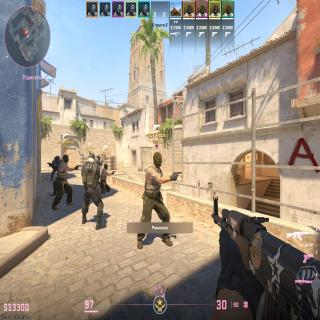CT-Body: (81, 153, 101, 226), (51, 156, 60, 196), (50, 157, 55, 181), (95, 154, 102, 166)
CT-Head: (89, 152, 95, 162), (55, 156, 60, 162), (97, 155, 100, 160), (54, 156, 56, 160)
T-Body: (144, 151, 164, 246), (57, 154, 70, 207), (100, 163, 109, 195)
T-Head: (153, 152, 162, 167), (63, 154, 69, 162), (104, 163, 108, 170)
